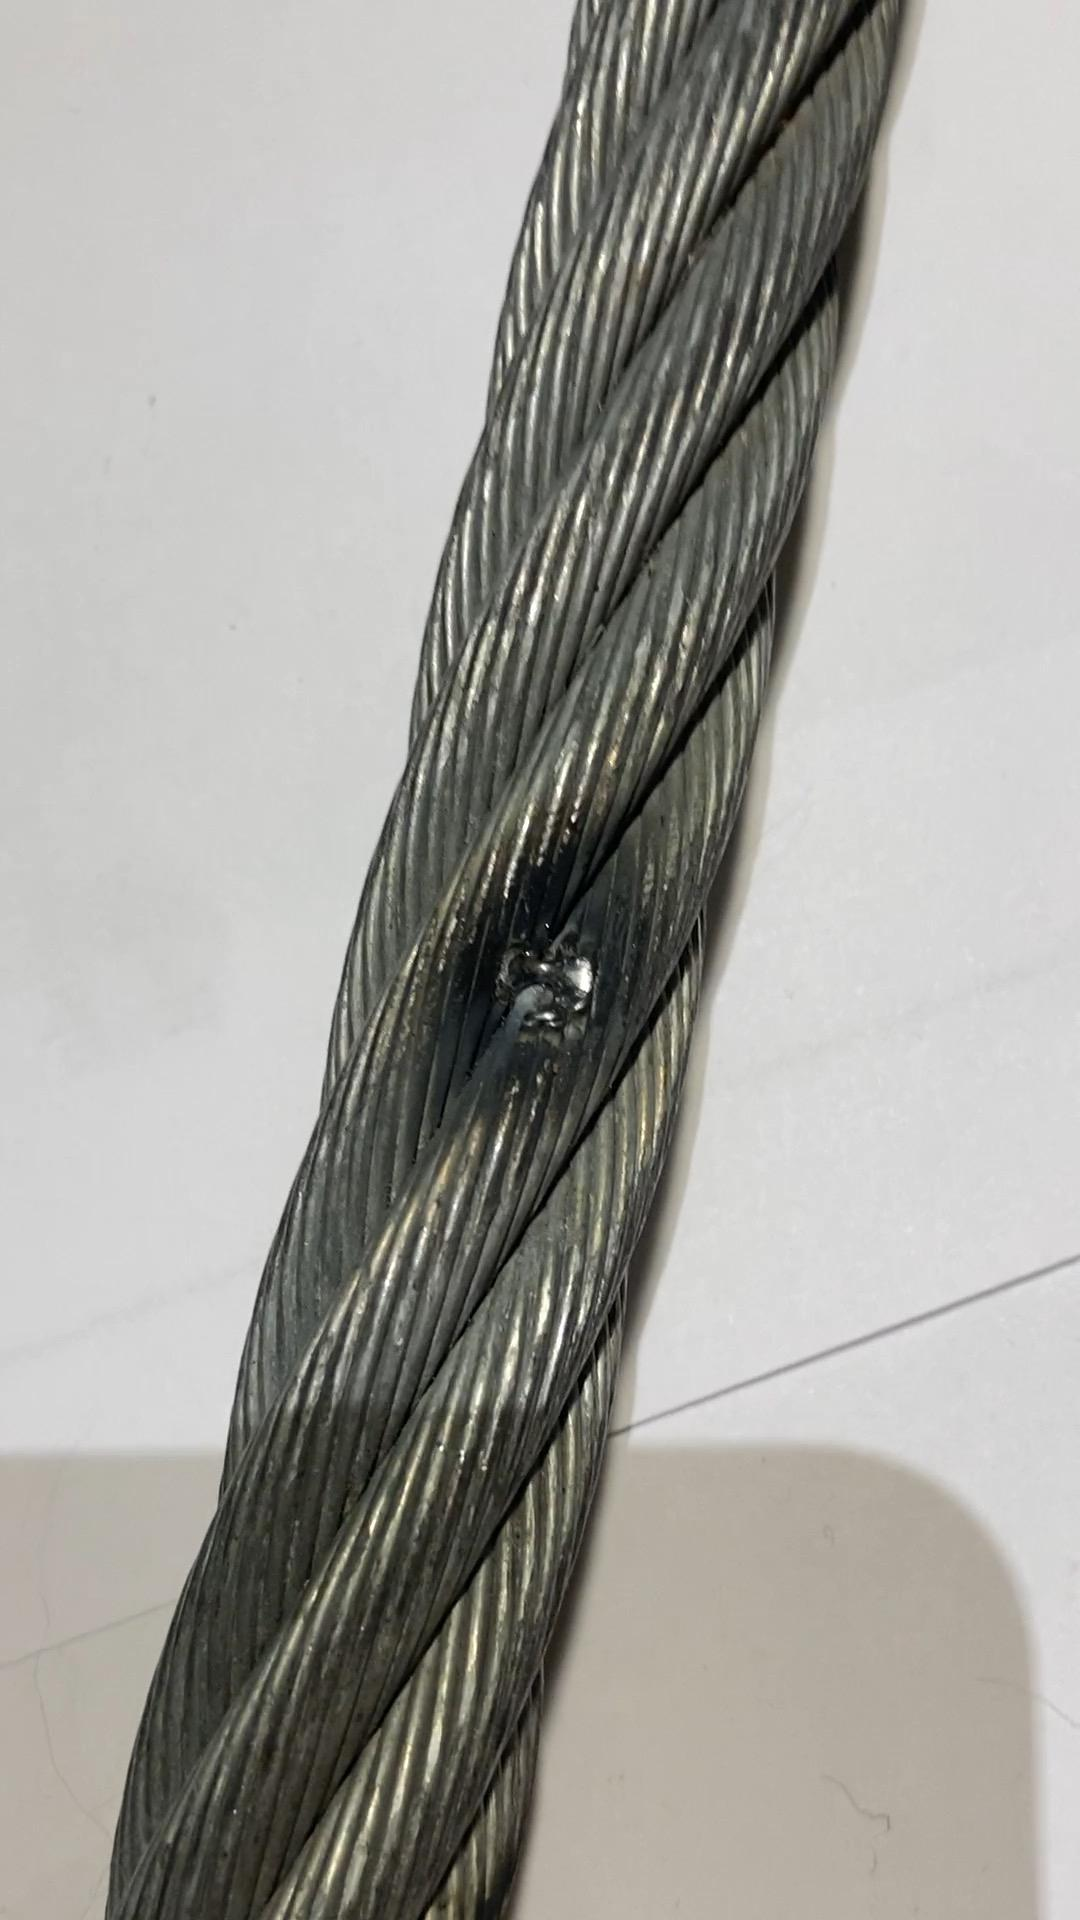thunderbolt: (497, 905, 616, 1069)
